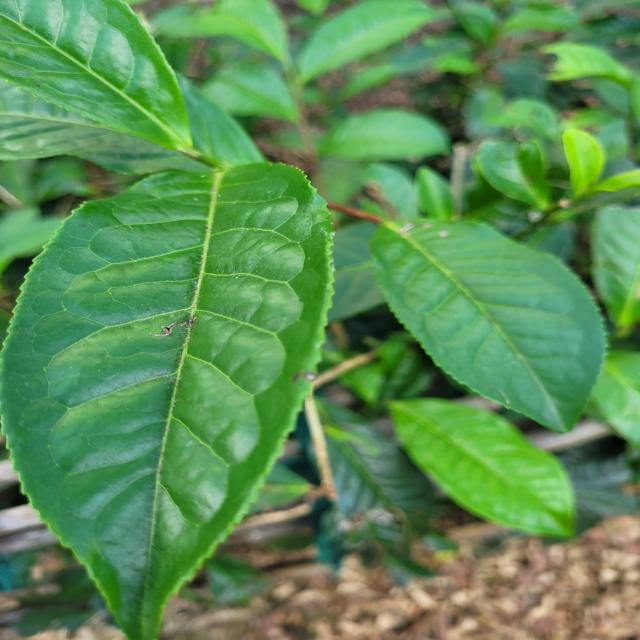Category D(7+ days, Not for Tea): (0, 149, 346, 640)
